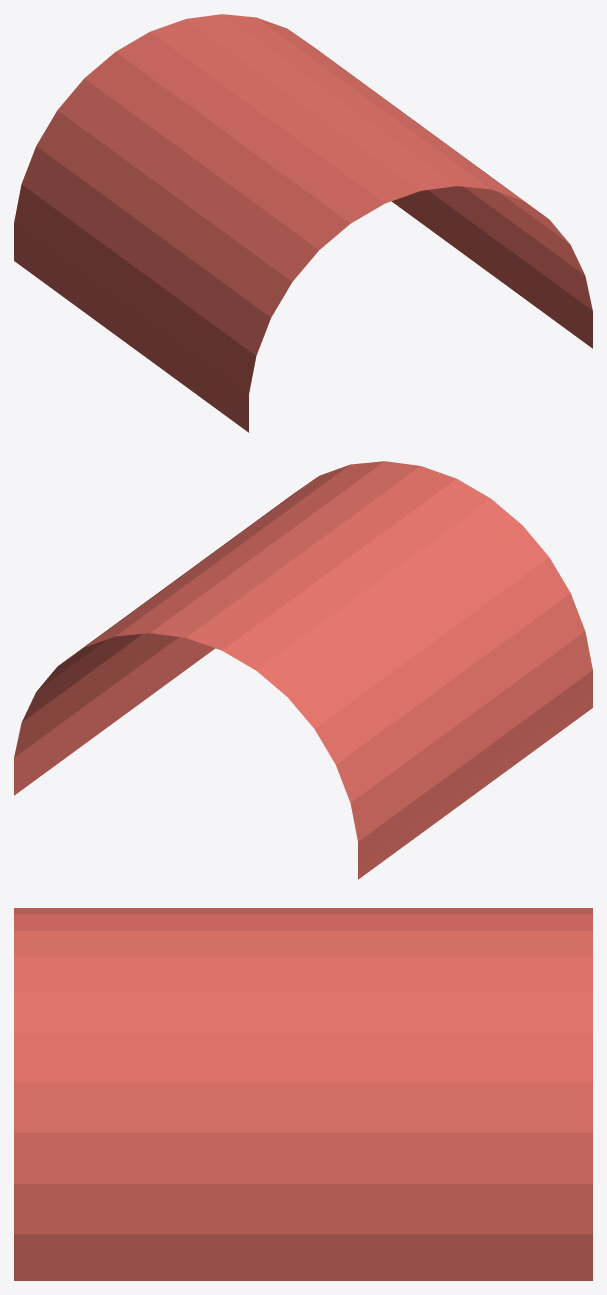
Rendered from roof_v001.fbx.
The picture shows the model from 3 angles, top to bottom: view 1: azimuth 30°, elevation 25°; view 2: azimuth 150°, elevation 25°; view 3: azimuth 270°, elevation 25°; orthographic projection. The views are drawn at different scales.
Visible parts, largest first — view 1: Roof; view 2: Roof; view 3: Roof.
Boxes of the visible parts, x1=… form: Roof: x1=14, y1=14, x2=592, y2=432; Roof: x1=14, y1=461, x2=592, y2=879; Roof: x1=14, y1=908, x2=592, y2=1280.
Size of the model in its own units: 2540 by 1411 by 3005.
